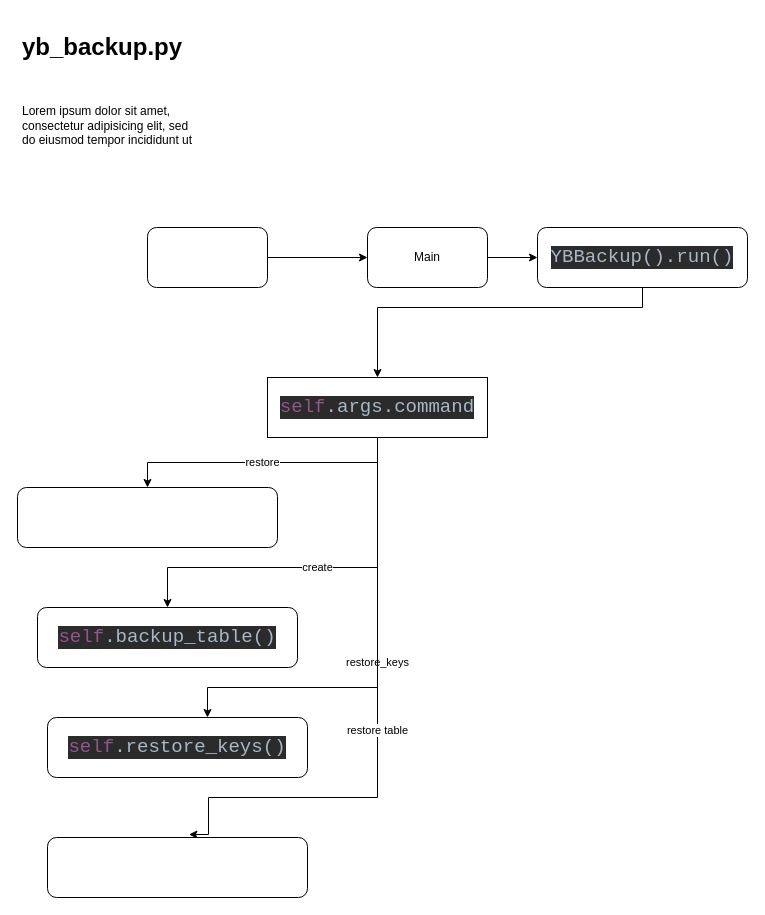
Some shapes in this 765 by 915 pixel diagram are drawn without their labels. Here are the shapes that lost their labels. From the top down, the centre of each, then its label:
(207,257): yb_backup.py
(147,517): self .restore_table()
(177,867): self .restoretable()
